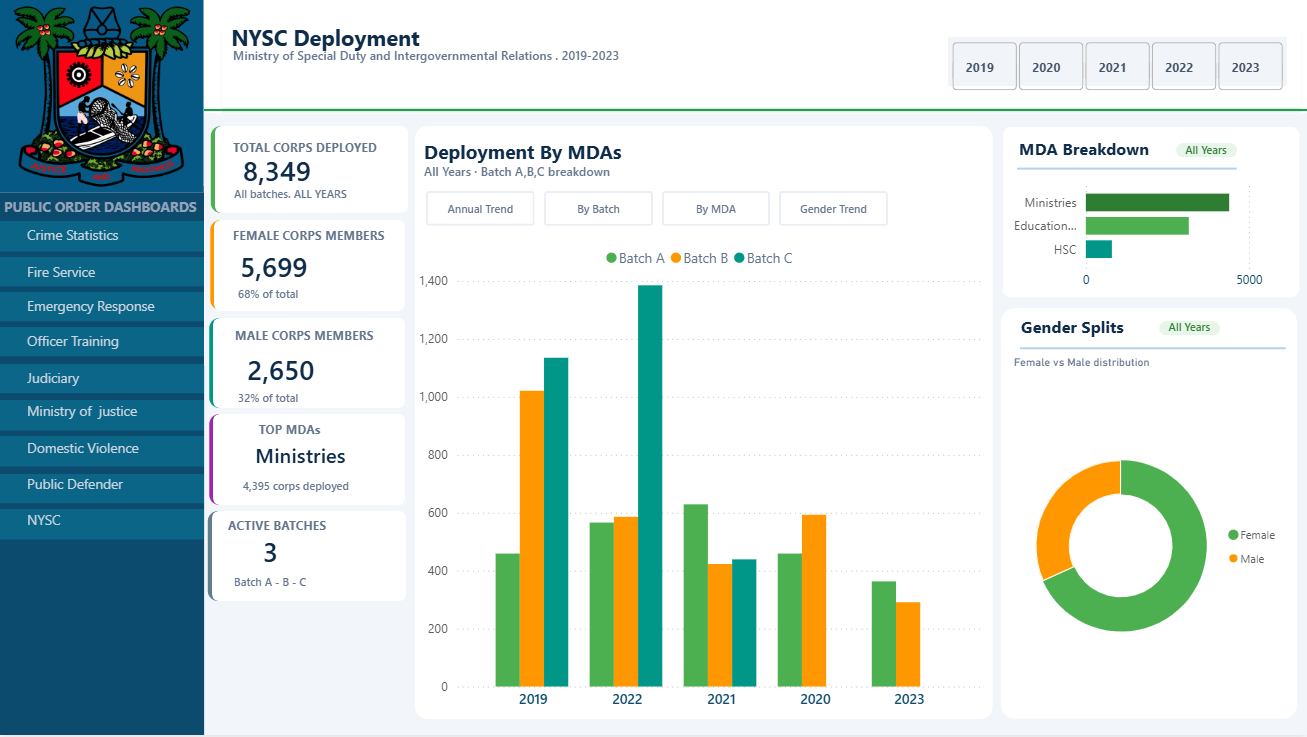

The dashboard page shown, as its layout file describes it:
{"tool":"powerbi","page":{"name":"NYSC","canvas":[1280,720],"ordinal":8},"visuals":[{"type":"shape","box":[0,182.7,200.6,537.3],"z":0},{"type":"shape","box":[0,499.1,200.6,29.9],"z":1000},{"type":"shape","box":[0,464.5,200.6,28.7],"z":2000},{"type":"shape","box":[0,427.5,200.6,29.9],"z":3000},{"type":"shape","box":[0,391.6,200.6,29.9],"z":4000},{"type":"shape","box":[0,357,200.6,28.7],"z":5000},{"type":"shape","box":[0,321.2,200.6,28.7],"z":6000},{"type":"shape","box":[0,286.6,200.6,28.7],"z":7000},{"type":"shape","box":[0,251.9,200.6,28.7],"z":8000},{"type":"shape","box":[0,217.3,200.6,29.9],"z":9000},{"type":"shape","box":[93.9,500.7,240.6,88],"z":10000},{"type":"shape","box":[208.3,500.7,189.7,88],"z":11000},{"type":"textbox","box":[211.8,0,373,70.6],"z":12000},{"type":"shape","box":[94.9,405.8,241.5,89],"z":13000},{"type":"shape","box":[209.3,405.8,187.7,89],"z":14000},{"type":"shape","box":[94.9,311.9,241.5,88],"z":15000},{"type":"shape","box":[209.3,311.9,187.7,88],"z":16000},{"type":"shape","box":[95.8,216.1,241.5,88],"z":17000},{"type":"shape","box":[210.2,216.1,186.8,89],"z":18000},{"type":"shape","box":[96.8,124.2,240.6,85.1],"z":19000},{"type":"shape","box":[211.2,124.2,188.7,85.1],"z":20000},{"type":"shape","box":[191.7,0,1088.3,112.5],"z":21000},{"type":"shape","box":[0,0,200,189.3],"z":22000},{"type":"shape","box":[922.1,31.3,343.2,59.6],"z":23000},{"type":"advancedSlicerVisual","fields":{"Values":["YearTable.Year"]},"box":[912.3,34.2,367.7,63.6],"z":24000},{"type":"shape","box":[979.1,300.9,291.3,403.6],"z":25000},{"type":"shape","box":[406.8,124.2,565.2,579.9],"z":26000},{"type":"shape","box":[980.3,124.2,291.3,168.4],"z":27000},{"type":"textbox","box":[223.9,131,174.1,27.4],"z":28000},{"type":"card","fields":{"Values":["NYSC_Yearly_Summary.Total Corps Deployed"]},"box":[218.1,140.8,107.6,54.8],"z":29000},{"type":"donutChart","title":"Female vs Male distribution","fields":{"Y":["NYSC_Yearly_Summary.Female","NYSC_Yearly_Summary.Male"]},"box":[992.8,348.2,264.5,355.4],"z":31000},{"type":"shape","box":[998.1,312.4,259.7,59.1],"z":32000},{"type":"shape","box":[995.9,118.8,214.9,95],"z":33000},{"type":"textbox","box":[992.5,131,206.3,34.2],"z":34000},{"type":"textbox","box":[223.9,41.1,409.7,58.7],"z":35000},{"type":"textbox","box":[211.2,17.6,216.1,54.8],"z":41000},{"type":"textbox","box":[0,189.7,200.5,39.1],"z":42000},{"type":"textbox","box":[22.7,217.3,125.4,29.9],"z":43000},{"type":"textbox","box":[22.7,253.1,115.8,27.5],"z":44000},{"type":"textbox","box":[22.7,286.6,146.9,28.7],"z":45000},{"type":"textbox","box":[22.7,321.2,146.9,28.7],"z":46000},{"type":"textbox","box":[22.7,357,132.5,28.7],"z":47000},{"type":"textbox","box":[22.7,389.3,132.5,34.6],"z":48000},{"type":"textbox","box":[22.7,425.1,132.5,34.6],"z":49000},{"type":"textbox","box":[22.7,460.9,132.5,32.2],"z":50000},{"type":"textbox","box":[22.7,495.5,115.8,33.4],"z":51000},{"type":"textbox","box":[223.9,217.1,176,33.2],"z":52000},{"type":"card","fields":{"Values":["NYSC_Yearly_Summary.Total Female Corps Members"]},"box":[218.5,235.2,101.5,53.7],"z":53000},{"type":"textbox","box":[225.7,315.2,174.3,33.4],"z":54000},{"type":"card","fields":{"Values":["NYSC_Yearly_Summary.Total Male Corps Members"]},"box":[224.5,336.7,101.5,53.7],"z":55000},{"type":"textbox","box":[242.5,406.8,83.1,34.2],"z":56000},{"type":"card","fields":{"Values":["NYSC_Yearly_Summary.Top MDA Name"]},"box":[207.3,420.5,175,53.8],"z":57000},{"type":"card","fields":{"Values":["NYSC_Yearly_Summary.Active Batches"]},"box":[222,514.3,87,52.8],"z":58000},{"type":"textbox","box":[219,500.7,148.6,28.4],"z":59000},{"type":"clusteredBarChart","fields":{"Category":["NYSC_Yearly_Summary.MDA"],"Y":["NYSC_Yearly_Summary.Top MDA Total Corps"]},"box":[980.3,168.4,291.3,124.2],"z":66000},{"type":"textbox","box":[224.5,182.7,127.8,13.1],"z":67000},{"type":"textbox","box":[228.8,280.6,109.5,24.4],"z":77000},{"type":"textbox","box":[224.9,555.4,113.4,31.3],"z":78000},{"type":"textbox","box":[228.8,382.3,123.2,13.7],"z":98000},{"type":"textbox","box":[994.9,304.8,133.3,32],"z":111000},{"type":"shape","box":[1150.9,140.5,59.9,14.5],"z":112000},{"type":"card","fields":{"Values":["NYSC_Yearly_Summary.NYSC_Badge"]},"box":[1146,137.9,68.4,22.5],"z":113000},{"type":"card","fields":{"Values":["NYSC_Yearly_Summary.Top MDA Corps (Text)"]},"box":[229.3,464.5,123,28.7],"z":114000},{"type":"clusteredColumnChart","fields":{"Category":["NYSC_Yearly_Summary.Year"],"Y":["NYSC_Yearly_Summary.Total Corps Deployed"],"Series":["NYSC_Yearly_Summary.Batch"]},"box":[405.1,232.6,564,470.9],"z":121000},{"type":"textbox","box":[410.7,131,324.6,51.8],"z":122000},{"type":"textbox","box":[410.7,160.4,287.5,14.7],"z":123000},{"type":"shape","title":"v","box":[532.9,187.7,106.6,34.2],"z":127000},{"type":"shape","title":"v","box":[417.4,188,106.4,34.1],"z":128000},{"type":"shape","title":"v","box":[648.3,187.7,105.6,34.2],"z":129000},{"type":"shape","title":"v","box":[762.7,187.7,106.6,34.2],"z":130000},{"type":"shape","box":[1134.3,315.1,59.9,14.5],"z":131000},{"type":"card","fields":{"Values":["NYSC_Yearly_Summary.NYSC_Badge"]},"box":[1129.2,312,69.2,21.7],"z":132000},{"type":"shape","box":[200.5,63.6,1079.5,90],"z":133000},{"type":"image","box":[0,0,200.5,189.7],"z":134000}]}

Visuals, with their boxes in screenshot pixels (x1, y1, x2, y2), scaled from the page's 1280x720 canvas onto the 1307x737 screenshot:
shape: l=0, t=187, r=205, b=736
shape: l=0, t=511, r=205, b=541
shape: l=0, t=475, r=205, b=505
shape: l=0, t=438, r=205, b=468
shape: l=0, t=401, r=205, b=431
shape: l=0, t=365, r=205, b=395
shape: l=0, t=329, r=205, b=358
shape: l=0, t=293, r=205, b=323
shape: l=0, t=258, r=205, b=287
shape: l=0, t=222, r=205, b=253
shape: l=96, t=513, r=342, b=603
shape: l=213, t=513, r=406, b=603
textbox: l=216, t=0, r=597, b=72
shape: l=97, t=415, r=343, b=506
shape: l=214, t=415, r=405, b=506
shape: l=97, t=319, r=343, b=409
shape: l=214, t=319, r=405, b=409
shape: l=98, t=221, r=344, b=311
shape: l=215, t=221, r=405, b=312
shape: l=99, t=127, r=345, b=214
shape: l=216, t=127, r=408, b=214
shape: l=196, t=0, r=1306, b=115
shape: l=0, t=0, r=204, b=194
shape: l=942, t=32, r=1292, b=93
advancedSlicerVisual - YearTable.Year: l=932, t=35, r=1306, b=100
shape: l=1000, t=308, r=1297, b=721
shape: l=415, t=127, r=993, b=721
shape: l=1001, t=127, r=1298, b=300
textbox: l=229, t=134, r=406, b=162
card - NYSC_Yearly_Summary.Total Corps Deployed: l=223, t=144, r=333, b=200
"Female vs Male distribution" donutChart: l=1014, t=356, r=1284, b=720
shape: l=1019, t=320, r=1284, b=380
shape: l=1017, t=122, r=1236, b=219
textbox: l=1013, t=134, r=1224, b=169
textbox: l=229, t=42, r=647, b=102
textbox: l=216, t=18, r=436, b=74
textbox: l=0, t=194, r=205, b=234
textbox: l=23, t=222, r=151, b=253
textbox: l=23, t=259, r=141, b=287
textbox: l=23, t=293, r=173, b=323
textbox: l=23, t=329, r=173, b=358
textbox: l=23, t=365, r=158, b=395
textbox: l=23, t=398, r=158, b=434
textbox: l=23, t=435, r=158, b=471
textbox: l=23, t=472, r=158, b=505
textbox: l=23, t=507, r=141, b=541
textbox: l=229, t=222, r=408, b=256
card - NYSC_Yearly_Summary.Total Female Corps Members: l=223, t=241, r=327, b=296
textbox: l=230, t=323, r=408, b=357
card - NYSC_Yearly_Summary.Total Male Corps Members: l=229, t=345, r=333, b=400
textbox: l=248, t=416, r=332, b=451
card - NYSC_Yearly_Summary.Top MDA Name: l=212, t=430, r=390, b=485
card - NYSC_Yearly_Summary.Active Batches: l=227, t=526, r=316, b=580
textbox: l=224, t=513, r=375, b=542
clusteredBarChart - NYSC_Yearly_Summary.MDA x NYSC_Yearly_Summary.Top MDA Total Corps: l=1001, t=172, r=1298, b=300
textbox: l=229, t=187, r=360, b=200
textbox: l=234, t=287, r=345, b=312
textbox: l=230, t=569, r=345, b=601
textbox: l=234, t=391, r=359, b=405
textbox: l=1016, t=312, r=1152, b=345
shape: l=1175, t=144, r=1236, b=159
card - NYSC_Yearly_Summary.NYSC_Badge: l=1170, t=141, r=1240, b=164
card - NYSC_Yearly_Summary.Top MDA Corps (Text): l=234, t=475, r=360, b=505
clusteredColumnChart - NYSC_Yearly_Summary.Year x NYSC_Yearly_Summary.Total Corps Deployed: l=414, t=238, r=990, b=720
textbox: l=419, t=134, r=751, b=187
textbox: l=419, t=164, r=713, b=179
"v" shape: l=544, t=192, r=653, b=227
"v" shape: l=426, t=192, r=535, b=227
"v" shape: l=662, t=192, r=770, b=227
"v" shape: l=779, t=192, r=888, b=227
shape: l=1158, t=323, r=1219, b=337
card - NYSC_Yearly_Summary.NYSC_Badge: l=1153, t=319, r=1224, b=342
shape: l=205, t=65, r=1306, b=157
image: l=0, t=0, r=205, b=194
